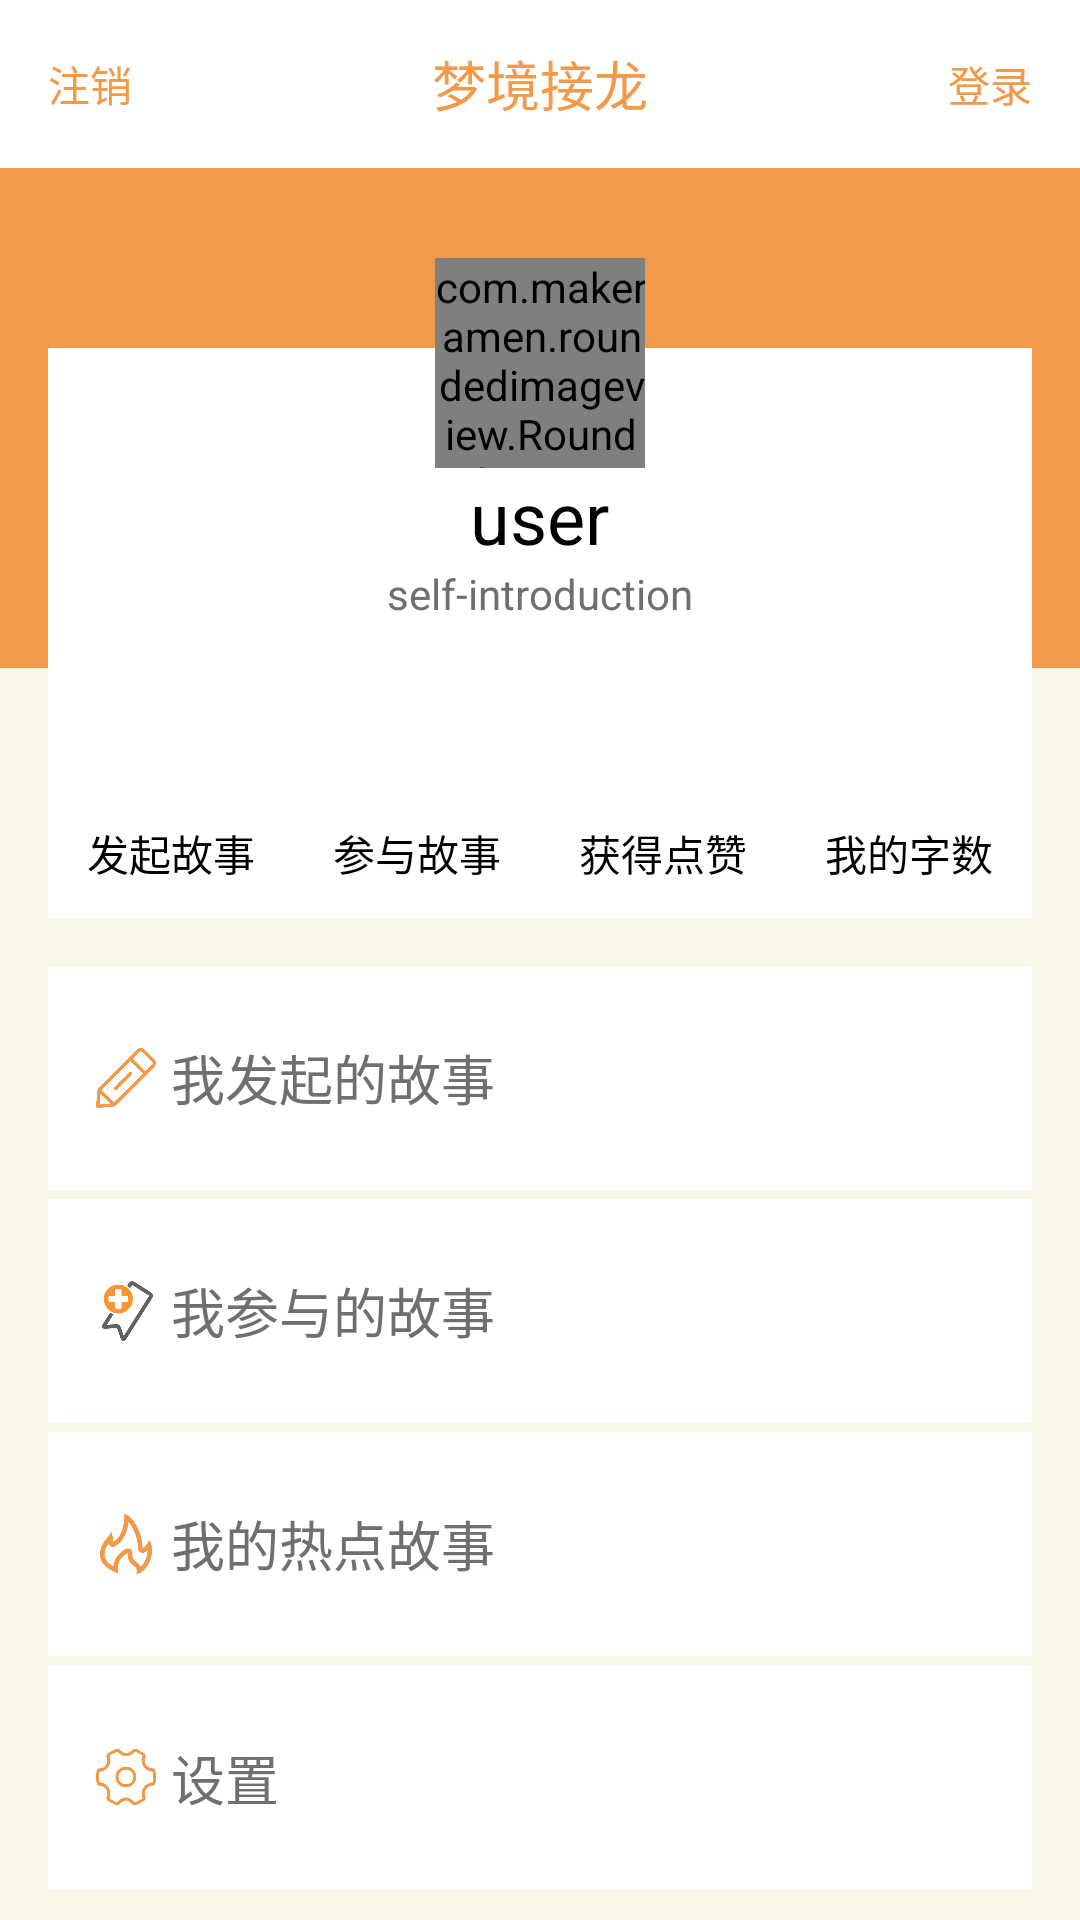

Screen size 1080px×1920px. Icon name, then its box in pixels as region(x1, y1, x2, y2):
add: region(102, 1281, 153, 1341)
hot: region(100, 1514, 152, 1574)
setting: region(96, 1749, 156, 1805)
write: region(96, 1048, 156, 1108)
